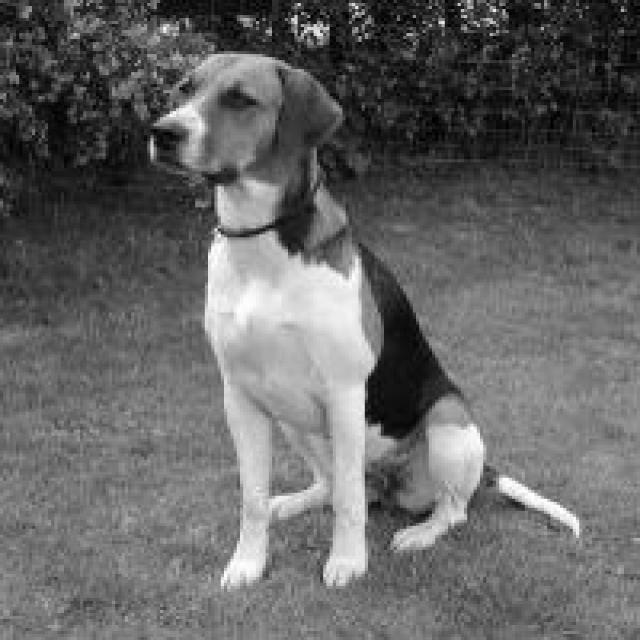sitting: (144, 47, 585, 593)
